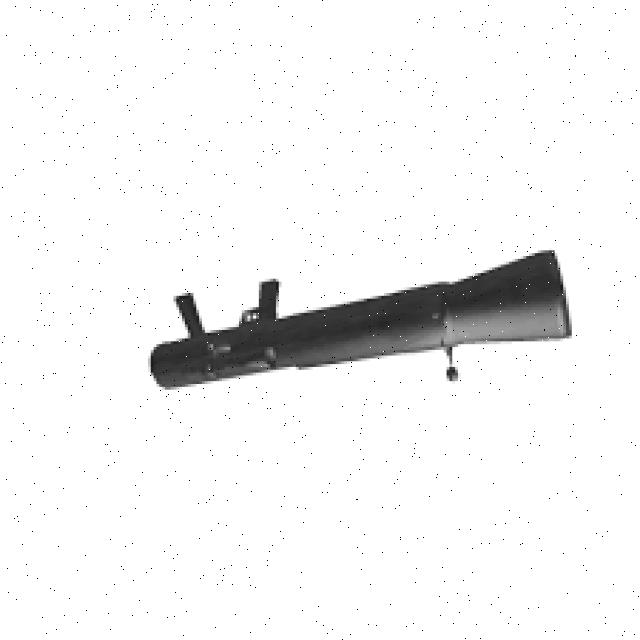bazooka: (145, 238, 576, 399)
